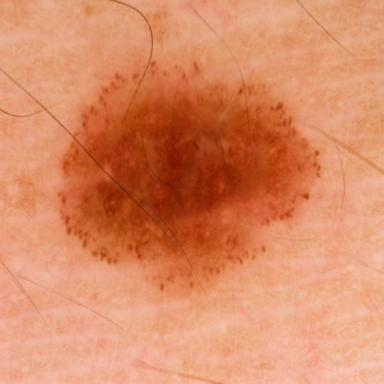nevus: (61, 57, 320, 295)
